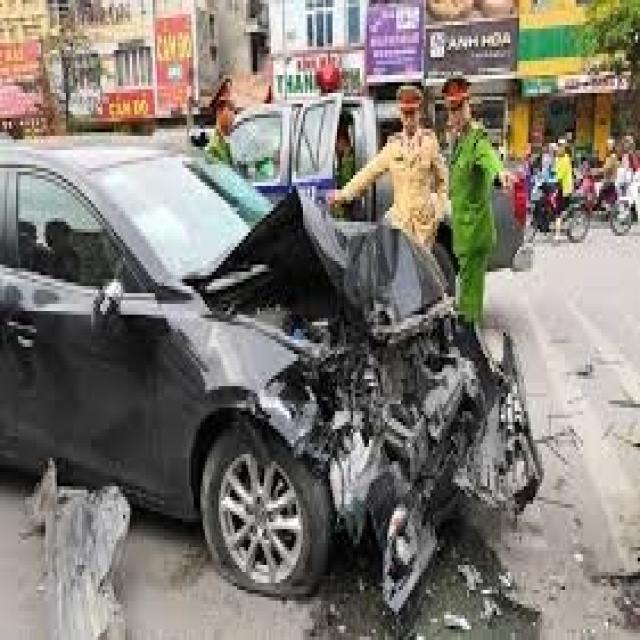accident: (118, 161, 573, 640)
